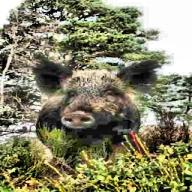boar: (32, 57, 162, 158)
